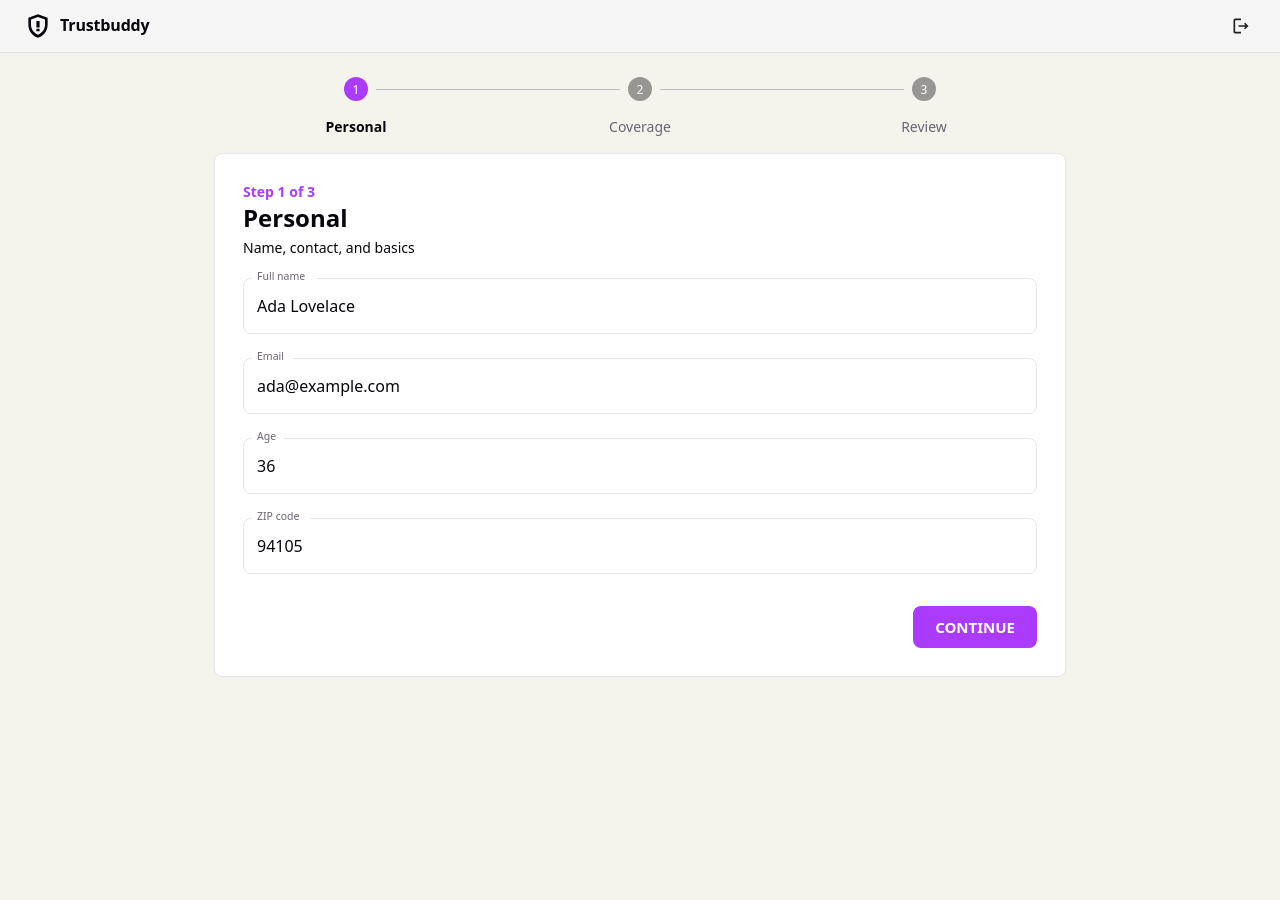
Test: wizard routes › given_quoteId_when_navigatingViaStepper_then_preservesQuery
Check: the field labelled "Full name" holds "Ada Lovelace", box x1=243 y1=278 x2=1037 y2=334
Click the tab "2 Coverage". click: (640, 126)
box: x1=609 y1=77 x2=671 y2=136
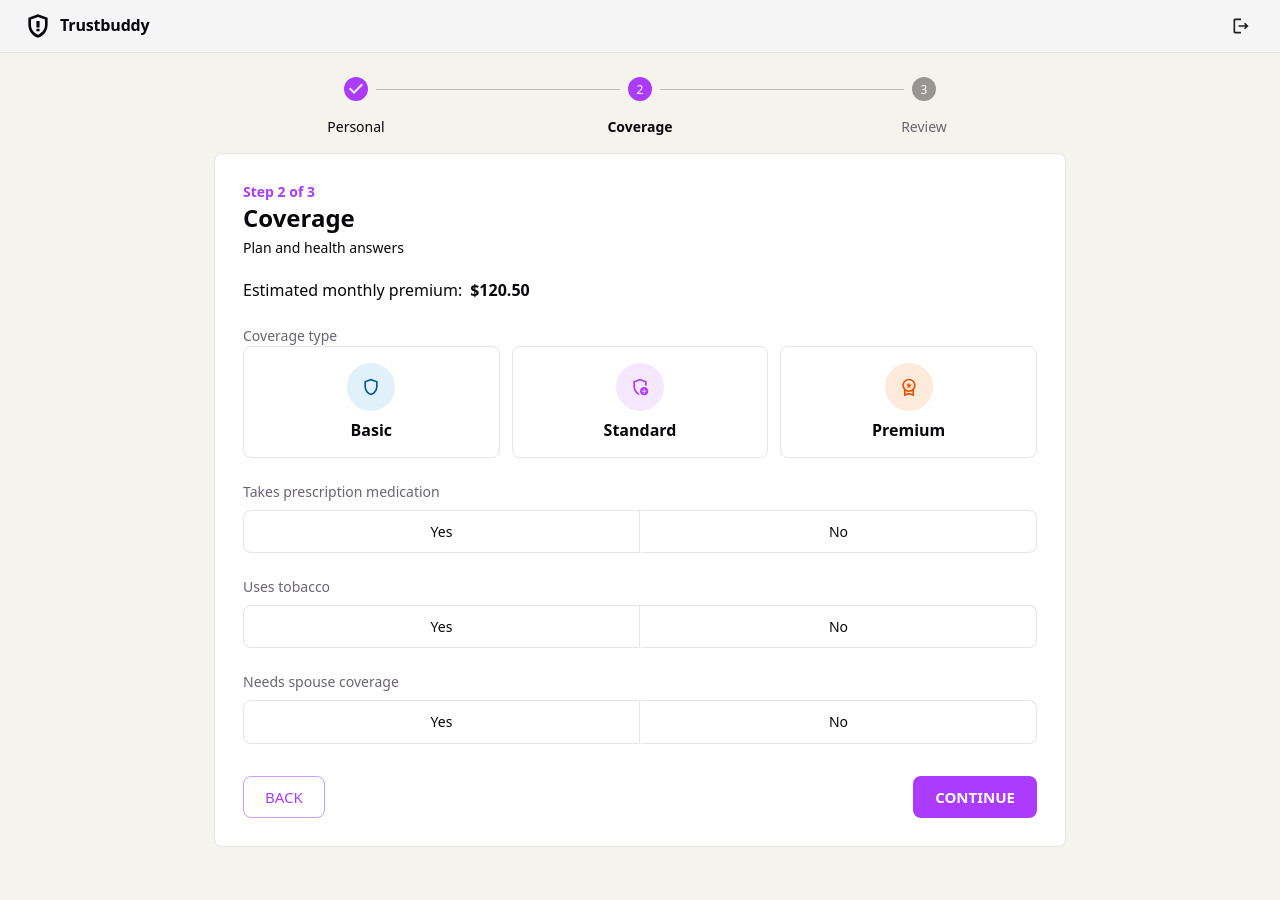
Check: the button "Continue" is shown, box x1=913 y1=776 x2=1037 y2=818
Check: the heading "Coverage" is shown, box x1=243 y1=201 x2=355 y2=234
Check: the element named "coverage type" is shown, box x1=243 y1=346 x2=1037 y2=458
